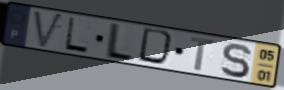D: (136, 26, 178, 68)
L: (102, 22, 136, 64), (63, 16, 91, 56)
S: (219, 42, 253, 79)
T: (189, 36, 217, 73)
V: (32, 9, 66, 51)
